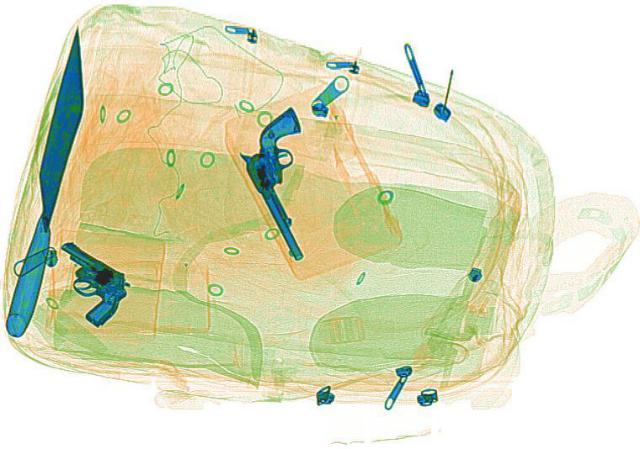Gun: (222, 105, 356, 260), (15, 236, 154, 327)
Knife: (3, 25, 98, 336)
